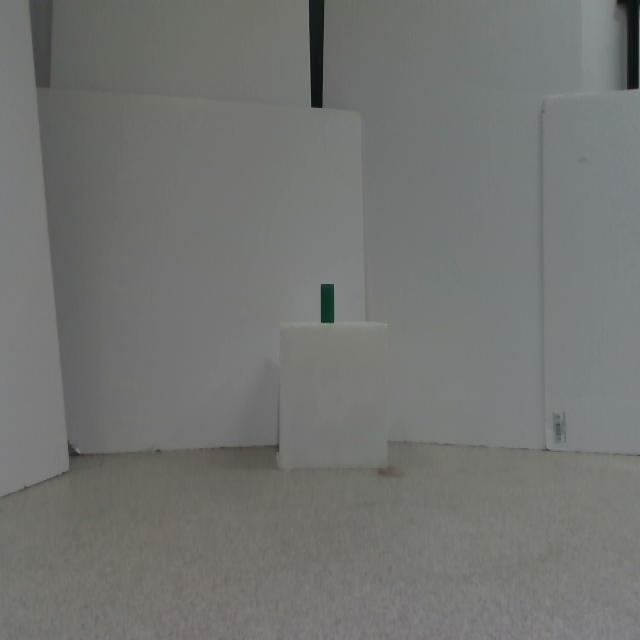green_cylinder: (321, 284, 334, 323)
